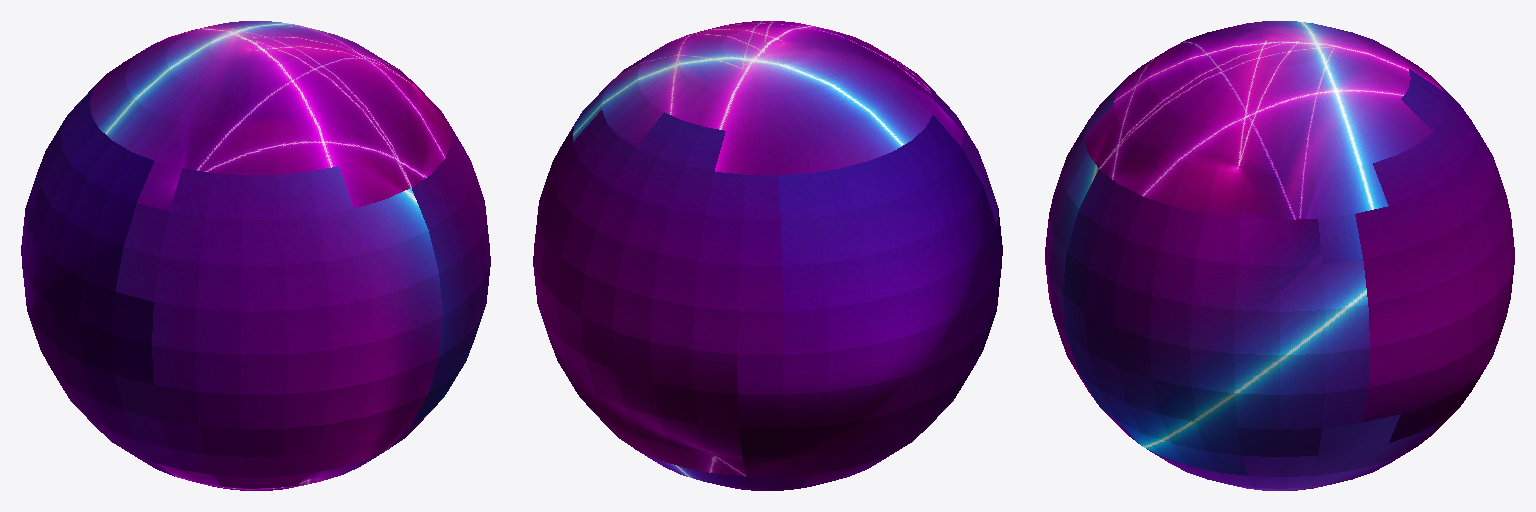
The picture shows the model from 3 angles: view 1: azimuth 30°, elevation 25°; view 2: azimuth 150°, elevation 25°; view 3: azimuth 270°, elevation 25°; orthographic projection.
Parts seen in each view (by area): view 1: 球; view 2: 球; view 3: 球.
Part boxes in pixels (x1,y1,x2,y2): 球: (21, 21, 490, 490); 球: (533, 21, 1002, 490); 球: (1045, 21, 1514, 490).
Bounding box in the file's own units: 3 × 3 × 3.
1 materials, 1 textured.